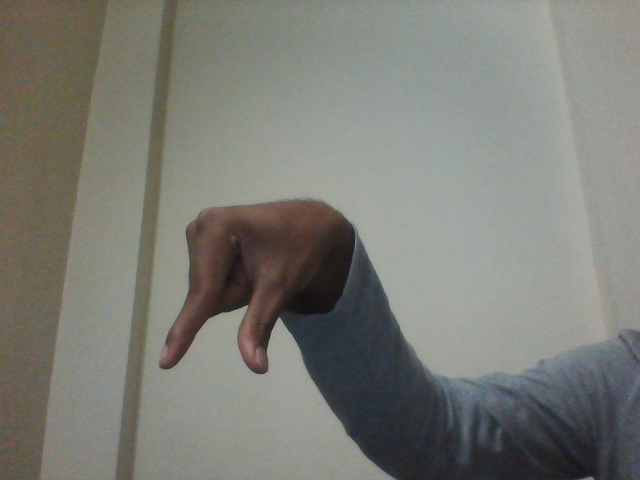q: (150, 183, 316, 390)
